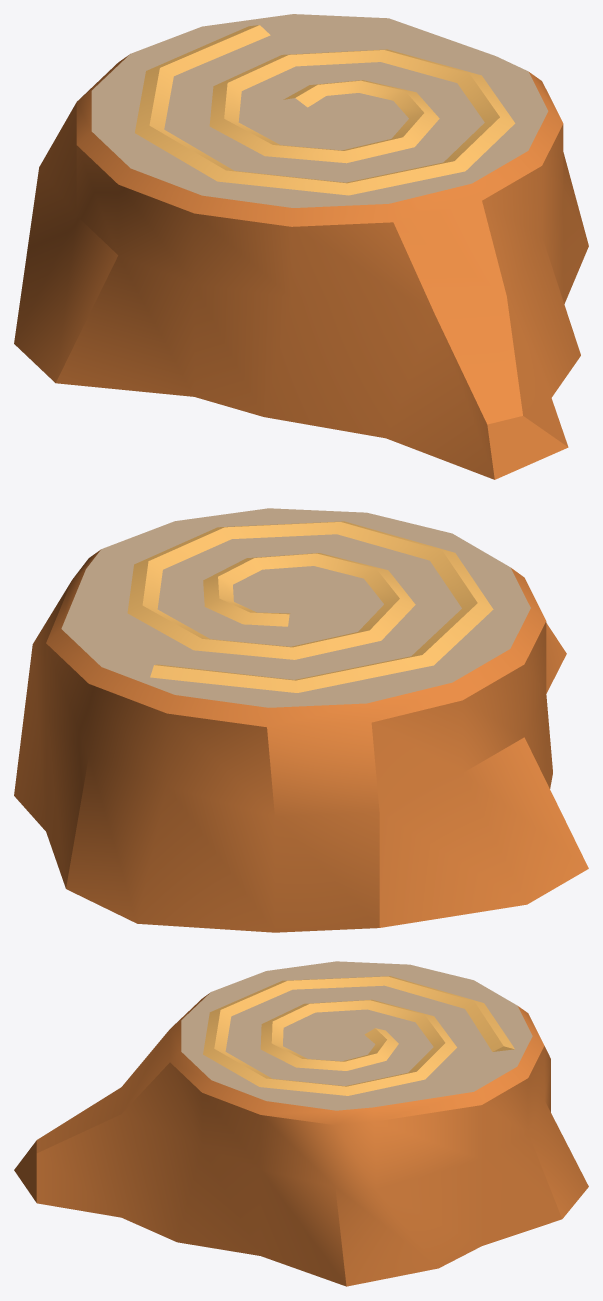
Rendered from stub.fbx.
The picture shows the model from 3 angles, top to bottom: view 1: azimuth 30°, elevation 25°; view 2: azimuth 150°, elevation 25°; view 3: azimuth 270°, elevation 25°; orthographic projection. The views are drawn at different scales.
Parts seen in each view (by area): view 1: Spiral; view 2: Spiral; view 3: Spiral.
Boxes of the visible parts, x1,y1,x2,y2 form: Spiral: [14, 14, 588, 479]; Spiral: [14, 508, 588, 932]; Spiral: [14, 961, 588, 1286].
Size of the model in its own units: 145 by 51.77 by 174.
